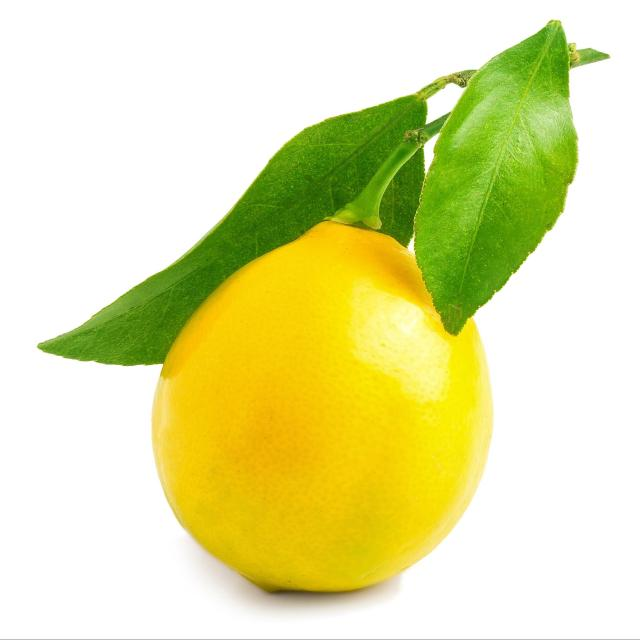lemon: (26, 11, 613, 604)
